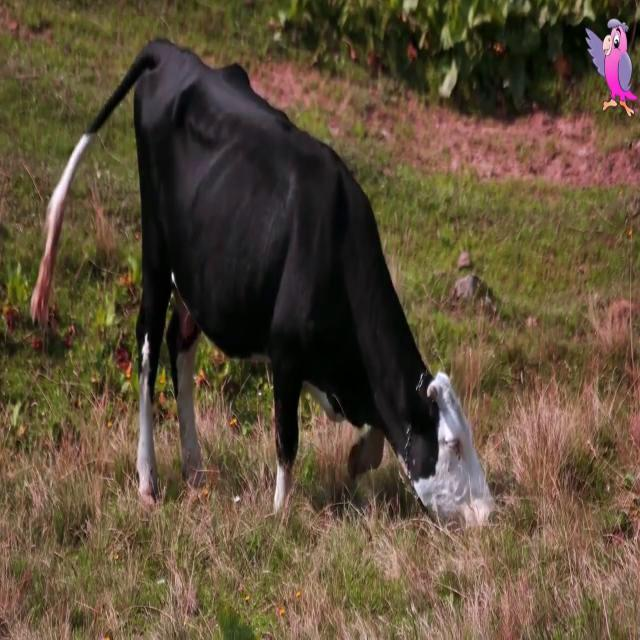cow: (88, 40, 494, 525)
